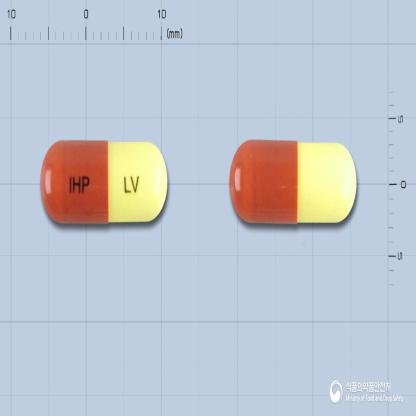pill: (228, 138, 359, 226), (39, 138, 169, 226)
